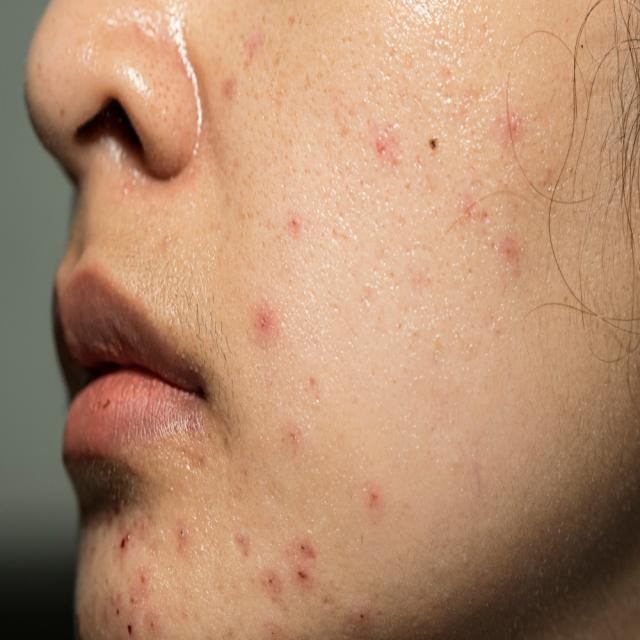Acne: (234, 294, 384, 640), (370, 80, 532, 271), (81, 504, 191, 640), (212, 29, 264, 116), (284, 210, 305, 238)
